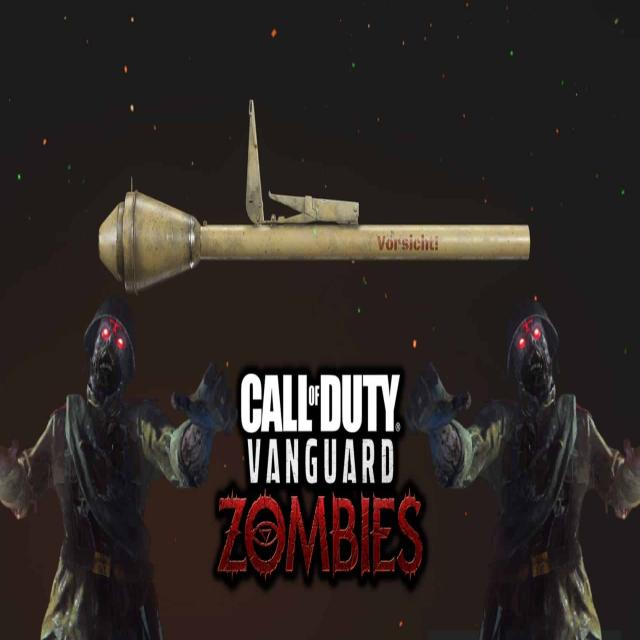bazooka: (85, 152, 543, 315)
